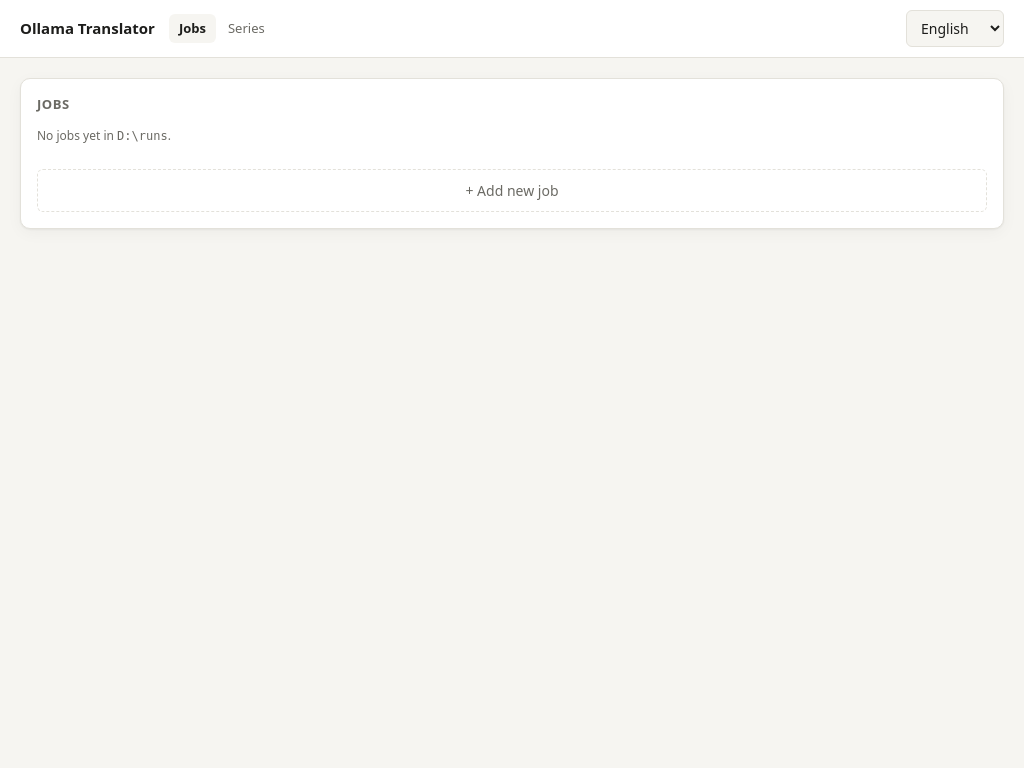
Jobs page › new job dialog › opens empty, with nothing to create yet
What coordinates should you click on to do the following:
click the button "+ Add new job"
I would click on:
 (512, 190)
Its box is [37,168,987,212].
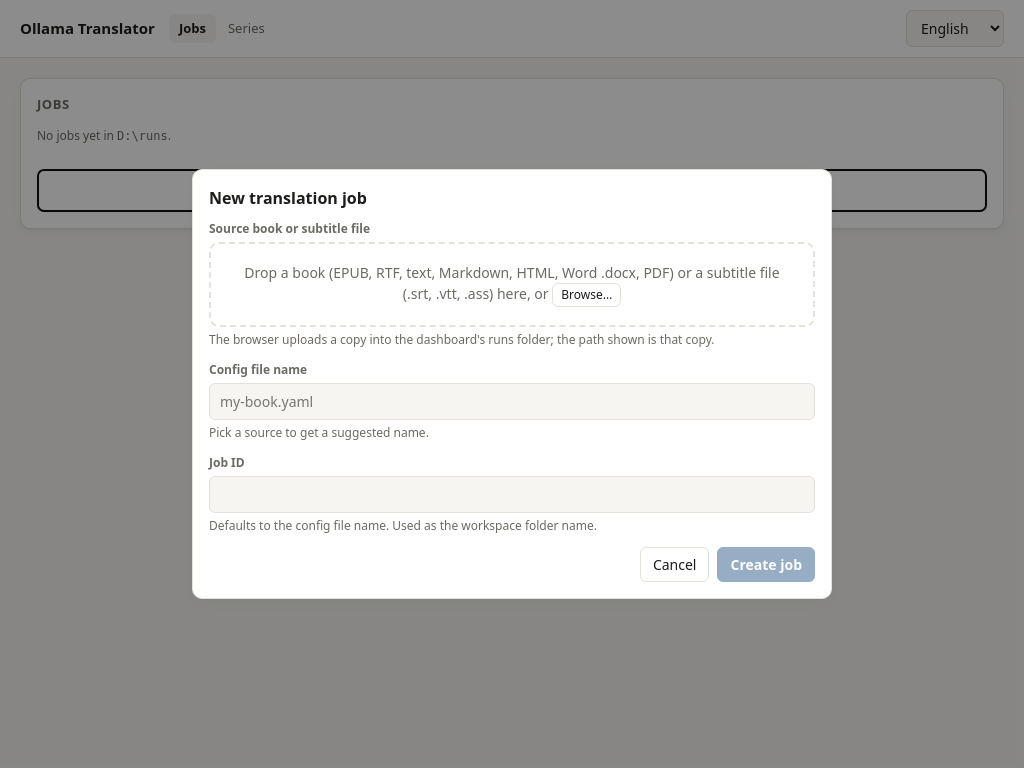
Result: the field labelled "Config file name" is empty at [209,383,815,420]
Result: the text "Pick a source to get a suggested name." is shown at [209,424,429,441]
Result: the button "Create job" is disabled at [718,547,815,582]
